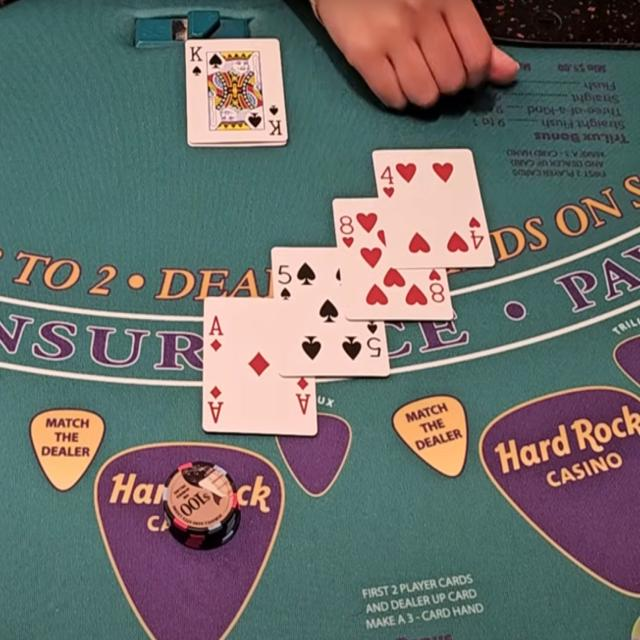4: (377, 162, 396, 186)
5: (274, 260, 296, 287)
8: (337, 212, 356, 236)
A: (204, 309, 232, 340)
K: (188, 45, 206, 64)
